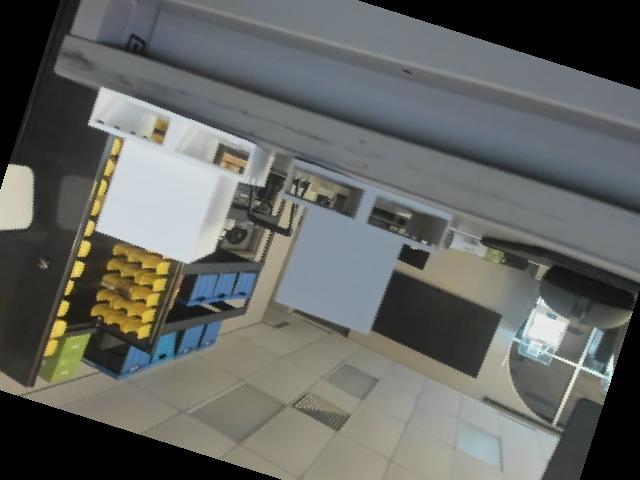grey pallet: (258, 140, 458, 340)
white pallet: (73, 70, 279, 278)
